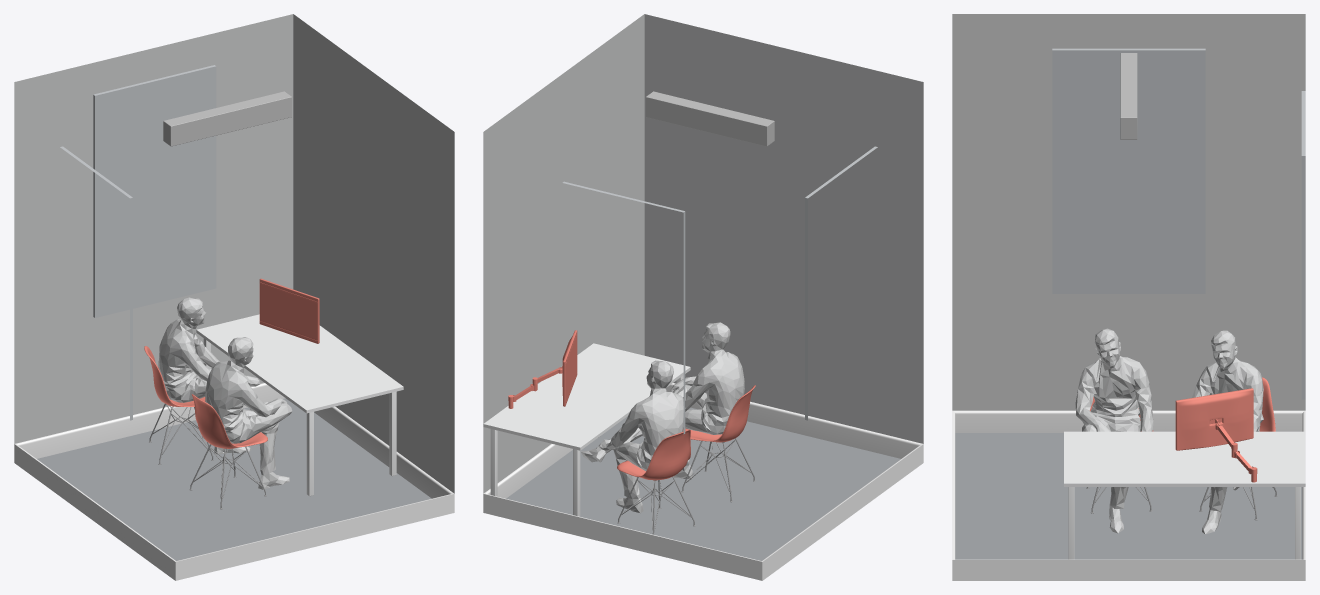
File: 20191010_Equipment_Chromebase.gltf
3 views of the same model, side by side, from view 1: azimuth 30°, elevation 25°; view 2: azimuth 150°, elevation 25°; view 3: azimuth 270°, elevation 25° (orthographic). The views are drawn at different scales.
Parts seen in each view (by area): view 1: 1mPlane02, 1mPlane01, floor, acousticPanel01, onePersonDesk00, skirtingBoard01, lowpolyPeopleSittinglMan001, lowpolyPeopleSittinglMan, skirtingBoard02, stripLight, skirtingBoard00, New_Chromebase_Normal_noStand (+4 smaller); view 2: 1mPlane00, 1mPlane01, floor, onePersonDesk00, skirtingBoard02, lowpolyPeopleSittinglMan, lowpolyPeopleSittinglMan001, stripLight, skirtingBoard01, skirtingBoard00, googleChair, googleChair001 (+4 smaller); view 3: 1mPlane03, acousticPanel00, floor, onePersonDesk00, skirtingBoard03, lowpolyPeopleSittinglMan001, New_Chromebase_Normal_noStand, skirtingBoard00, lowpolyPeopleSittinglMan, stripLight, acousticPanel01, googleChair (+1 smaller).
Part boxes in pixels (bbox=[...]): 1mPlane02: bbox=[14, 14, 293, 443]; 1mPlane01: bbox=[293, 14, 454, 493]; floor: bbox=[37, 398, 431, 560]; acousticPanel01: bbox=[93, 65, 216, 317]; onePersonDesk00: bbox=[196, 314, 403, 496]; skirtingBoard01: bbox=[174, 493, 454, 580]; lowpolyPeopleSittinglMan001: bbox=[205, 337, 292, 489]; lowpolyPeopleSittinglMan: bbox=[158, 297, 260, 454]; skirtingBoard02: bbox=[14, 383, 285, 463]; stripLight: bbox=[163, 91, 291, 146]; skirtingBoard00: bbox=[15, 444, 177, 580]; New_Chromebase_Normal_noStand: bbox=[259, 278, 319, 343]; 1mPlane00: bbox=[644, 14, 923, 443]; 1mPlane01: bbox=[483, 14, 644, 493]; floor: bbox=[506, 407, 900, 560]; onePersonDesk00: bbox=[483, 343, 690, 516]; skirtingBoard02: bbox=[483, 493, 763, 580]; lowpolyPeopleSittinglMan: bbox=[580, 360, 683, 513]; lowpolyPeopleSittinglMan001: bbox=[642, 322, 744, 479]; stripLight: bbox=[646, 91, 774, 146]; skirtingBoard01: bbox=[666, 383, 923, 463]; skirtingBoard00: bbox=[760, 444, 923, 579]; googleChair: bbox=[617, 429, 695, 534]; googleChair001: bbox=[681, 385, 755, 502]; 1mPlane03: bbox=[952, 14, 1305, 410]; acousticPanel00: bbox=[1052, 48, 1205, 293]; floor: bbox=[955, 433, 1302, 559]; onePersonDesk00: bbox=[1064, 431, 1305, 559]; skirtingBoard03: bbox=[952, 559, 1305, 580]; lowpolyPeopleSittinglMan001: bbox=[1075, 328, 1153, 533]; New_Chromebase_Normal_noStand: bbox=[1175, 388, 1257, 482]; skirtingBoard00: bbox=[952, 410, 1305, 432]; lowpolyPeopleSittinglMan: bbox=[1192, 330, 1263, 534]; stripLight: bbox=[1120, 53, 1137, 139]; acousticPanel01: bbox=[1301, 91, 1305, 399]; googleChair: bbox=[1199, 377, 1277, 520].
Size of the model in its own units: 230 by 301 by 230.
